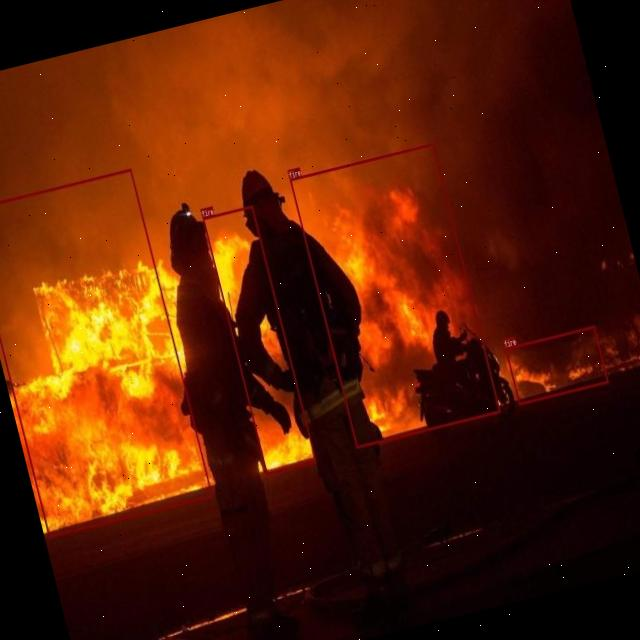fire: (0, 168, 212, 537), (288, 142, 501, 448), (202, 205, 316, 475), (504, 325, 608, 405)
